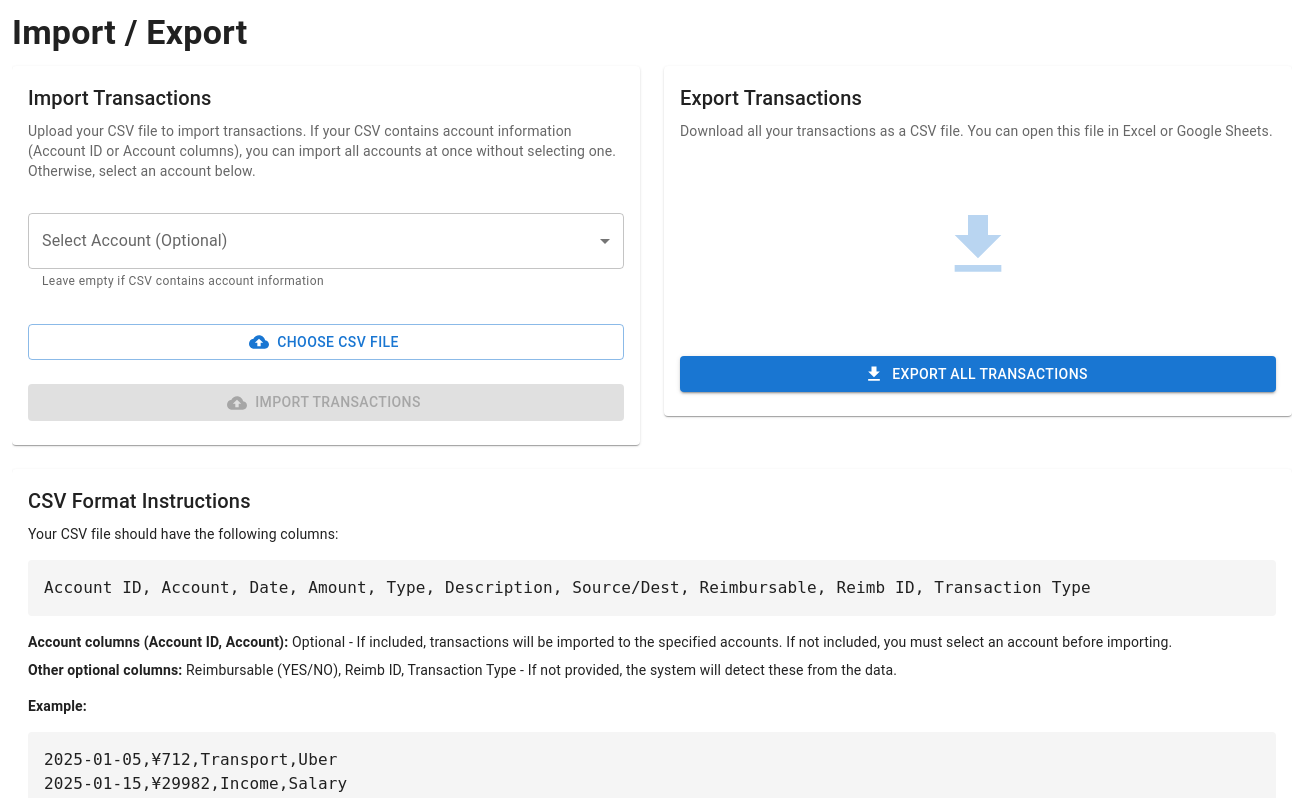
Test: Import › Account Loading › should display account options
Press the mouse on the dropdown named "Select Account (Optional)": (326, 241) [28,213,624,269]
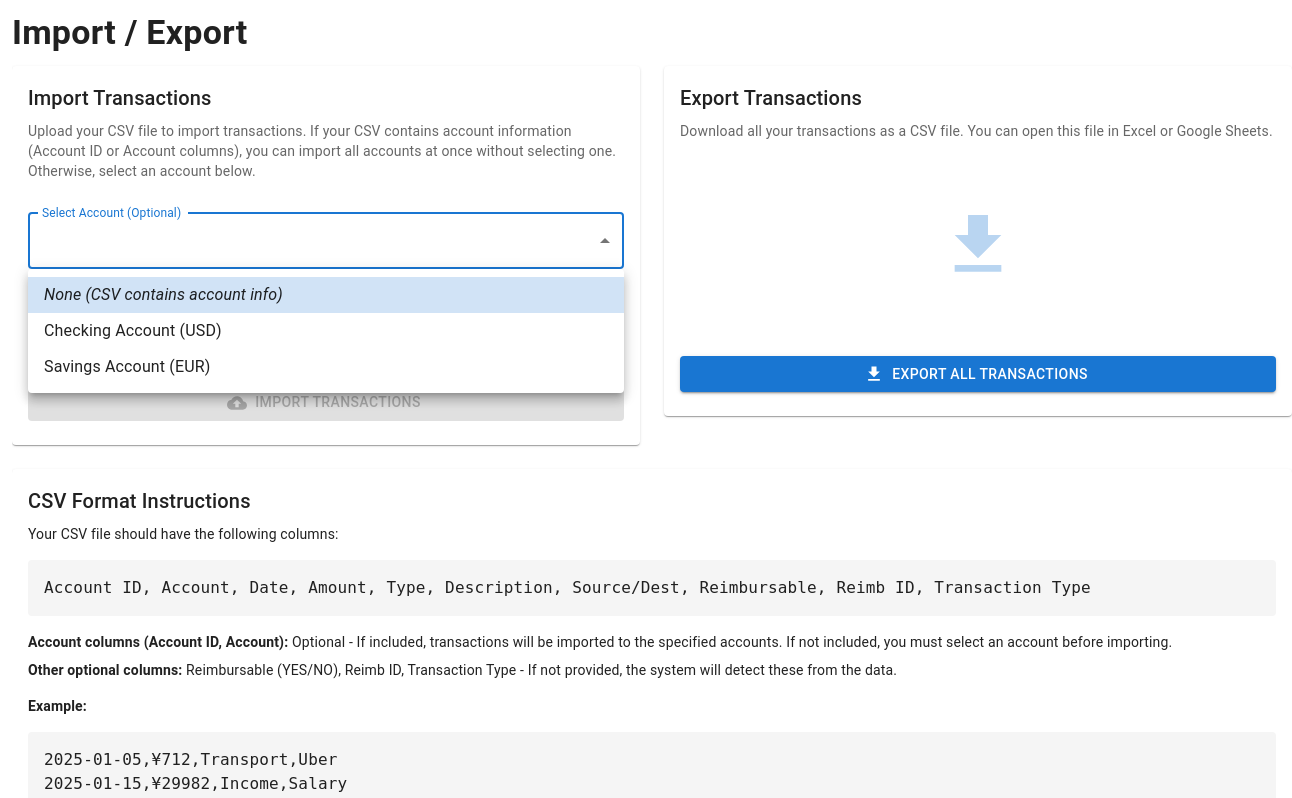
expect the option "Checking Account (USD)" is shown: met, box [44,321,222,340]
expect the option "Savings Account (EUR)" is shown: met, box [44,357,210,376]
